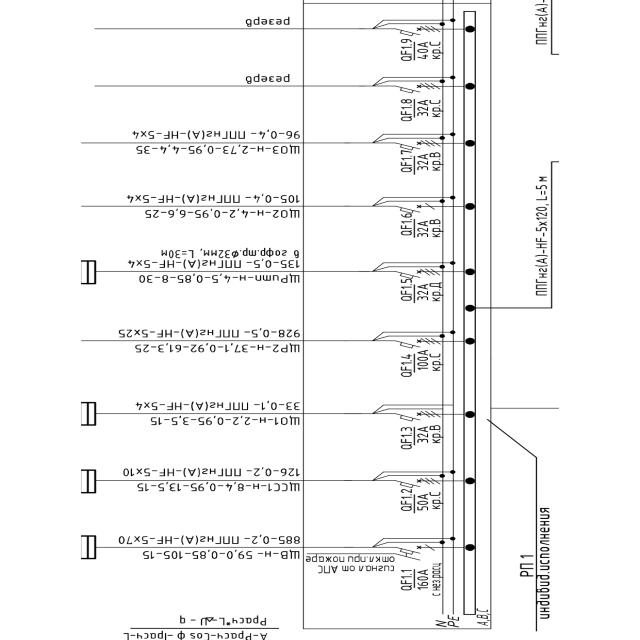-: (414, 561, 443, 596), (414, 348, 442, 379), (416, 212, 444, 240), (416, 37, 444, 64), (415, 278, 444, 303), (416, 96, 443, 122), (416, 488, 442, 515), (416, 424, 442, 451), (418, 150, 442, 173)
ITU: (393, 548, 423, 562)
QF: (393, 411, 426, 423), (392, 267, 424, 279), (395, 202, 426, 214), (392, 140, 425, 151), (390, 26, 423, 37), (392, 83, 425, 94), (393, 477, 425, 488), (394, 338, 426, 349), (394, 544, 422, 556)
